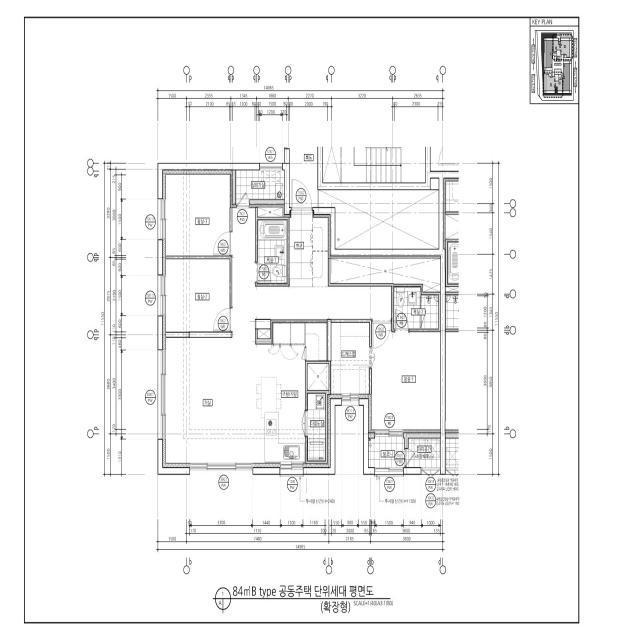background: (0, 0, 640, 640)
space_balconi: (369, 436, 404, 467)
space_bedroom: (371, 323, 440, 429), (166, 174, 230, 256), (166, 259, 230, 332)
space_dressroom: (331, 323, 370, 398)
space_elevator_hall: (289, 150, 439, 249)
space_front: (289, 213, 330, 287)
space_kitchen: (255, 323, 305, 467)
space_living_room: (163, 208, 392, 468)
space_multipurpose_space: (308, 393, 325, 461)
space_other: (330, 259, 440, 292), (406, 438, 440, 468), (306, 323, 327, 361), (307, 364, 329, 390), (258, 207, 283, 217)
space_outdoor_room: (236, 170, 284, 204)
space_staircase: (323, 146, 425, 182)
space_toilet: (257, 220, 288, 283), (394, 287, 439, 329)
